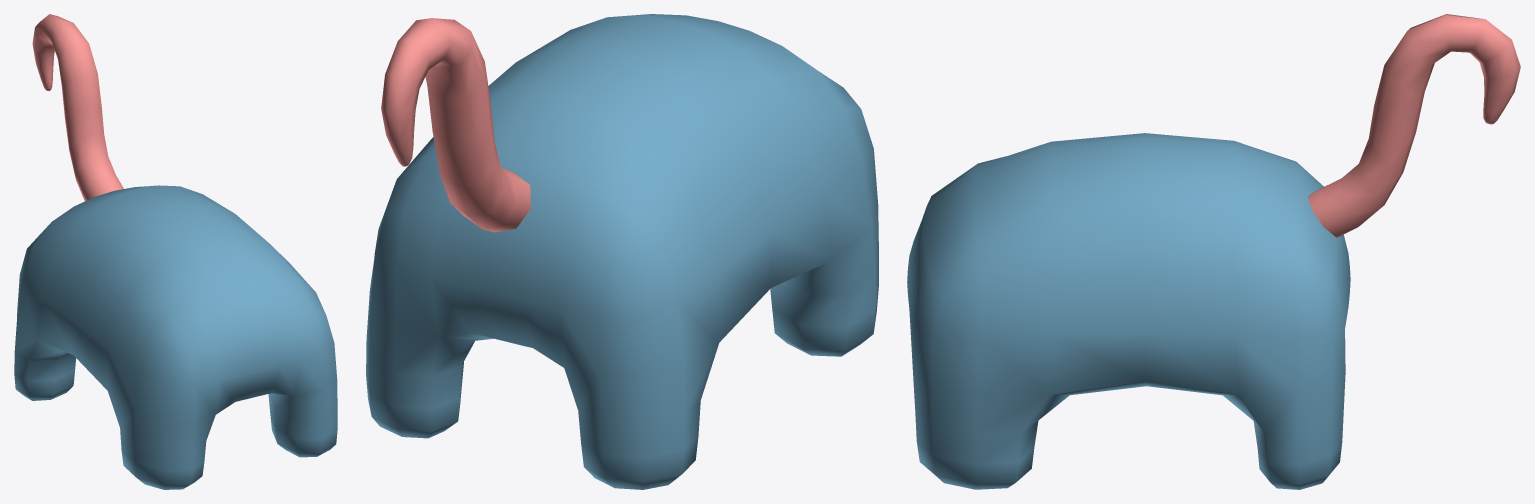
File: mousebodyfbx.fbx
3 renders of one model, left to right at view 1: azimuth 30°, elevation 25°; view 2: azimuth 150°, elevation 25°; view 3: azimuth 270°, elevation 25°, orthographic. The views are drawn at different scales.
Visible parts, largest first — view 1: mouse_body; view 2: mouse_body; view 3: mouse_body.
Boxes of the visible parts, left/top/right/bottom form: mouse_body: left=14, top=14, right=337, bottom=489; mouse_body: left=366, top=14, right=878, bottom=489; mouse_body: left=907, top=14, right=1520, bottom=489.
Bounding box in the file's own units: 37.53 × 56.2 × 74.12.
